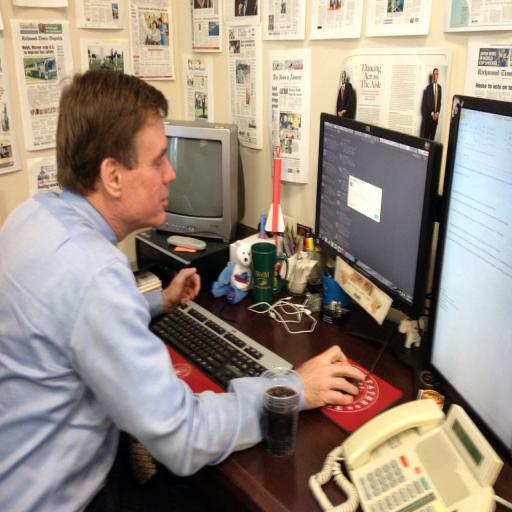Person: (5, 99, 371, 464)
no_gloves: (282, 310, 374, 384), (166, 256, 206, 298)
no_goggle: (111, 168, 181, 199)
no_helmet: (55, 104, 177, 197)
none: (2, 206, 276, 462)
